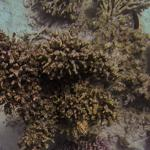dead: (9, 6, 147, 146)
